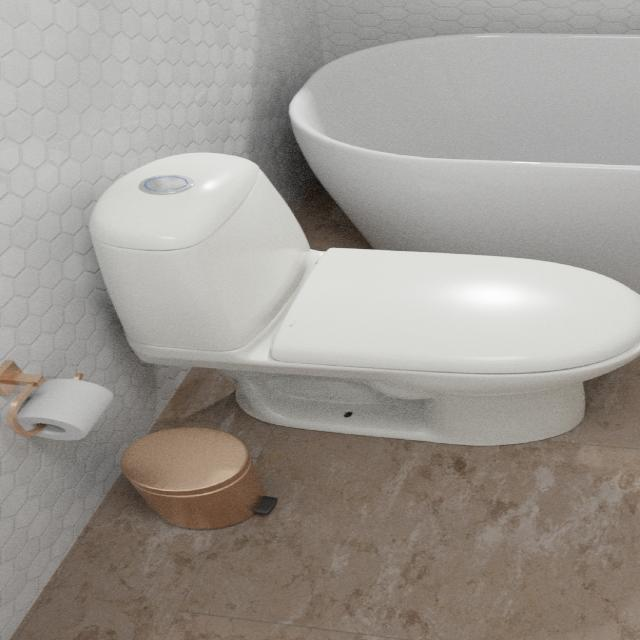toilet: (87, 151, 638, 446)
